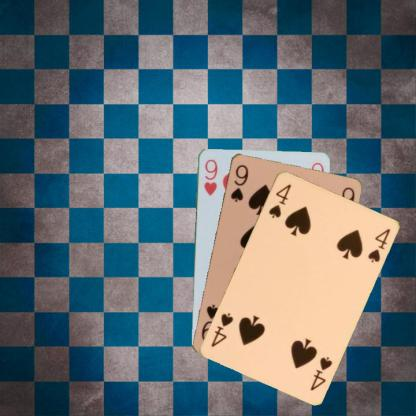4s: (307, 354, 336, 392), (266, 181, 292, 219)
9h: (201, 157, 218, 197)
9s: (228, 162, 250, 203)
